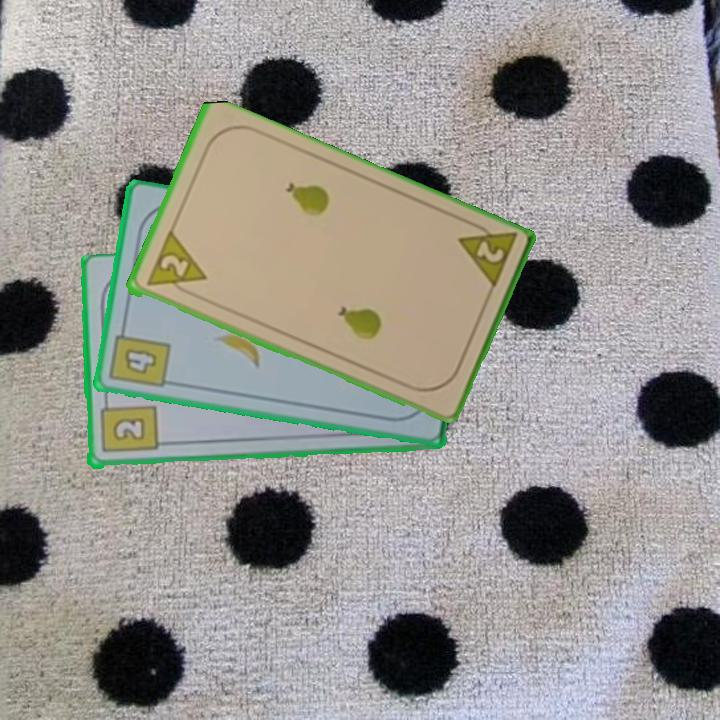2b: (96, 395, 159, 456)
2p: (141, 229, 209, 299), (472, 237, 507, 267)
4b: (106, 320, 174, 392)
